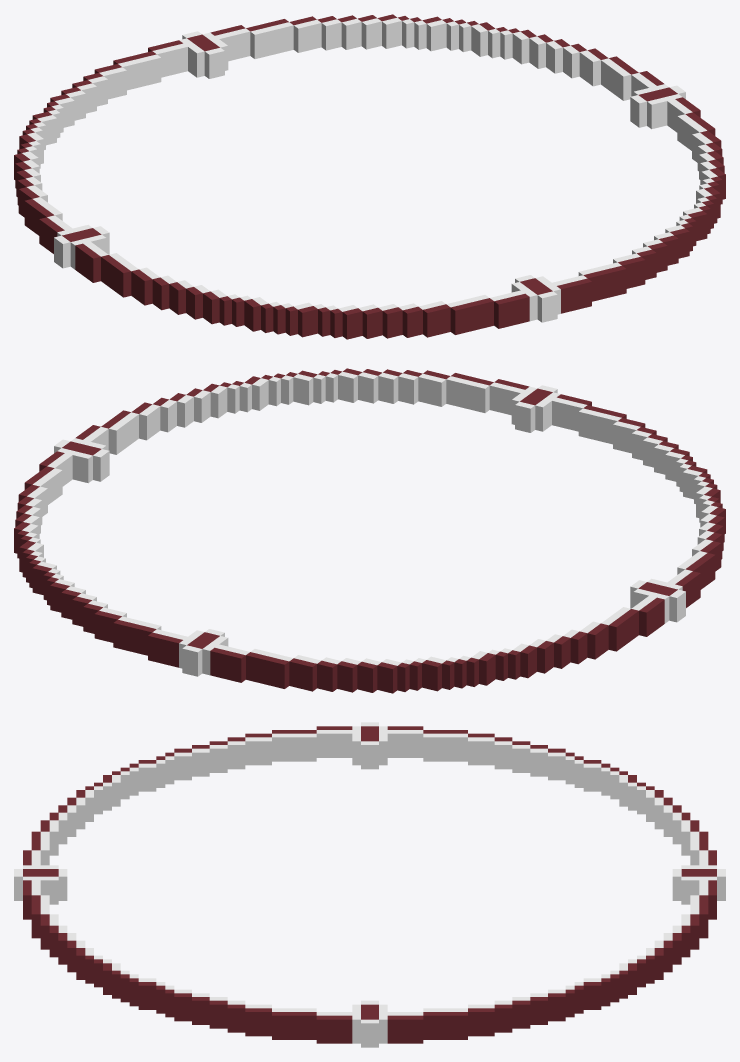
File: attack_marker.obj
The picture shows the model from 3 angles, top to bottom: view 1: azimuth 30°, elevation 25°; view 2: azimuth 150°, elevation 25°; view 3: azimuth 270°, elevation 25°; orthographic projection.
Bounding box in the file's own units: 8 × 0.3 × 8.
1 material, 1 textured.
